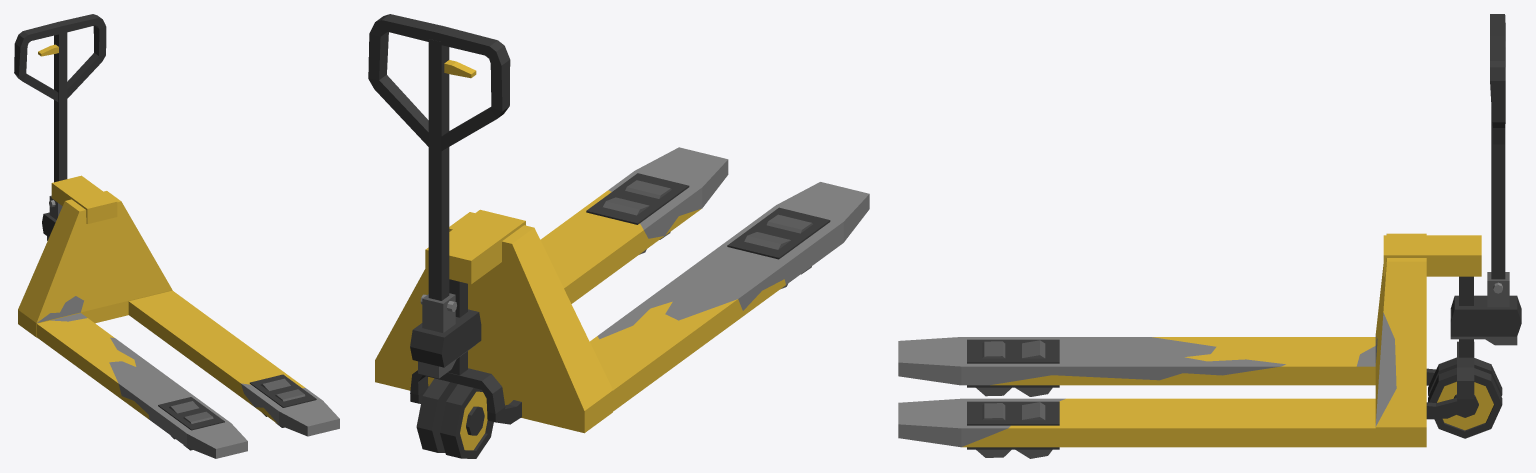
The model's file is Pallet_Truck.glb.
3 views of the same model, side by side, from view 1: azimuth 30°, elevation 25°; view 2: azimuth 150°, elevation 25°; view 3: azimuth 270°, elevation 25° (orthographic). The views are drawn at different scales.
Parts seen in each view (by area): view 1: Cube.016; view 2: Cube.016; view 3: Cube.016.
Part boxes in pixels (left/top/right/bottom): Cube.016: left=14, top=14, right=339, bottom=458; Cube.016: left=368, top=14, right=869, bottom=458; Cube.016: left=898, top=14, right=1521, bottom=458.
Bounding box in the file's own units: 0.838 × 1.68 × 2.41.
